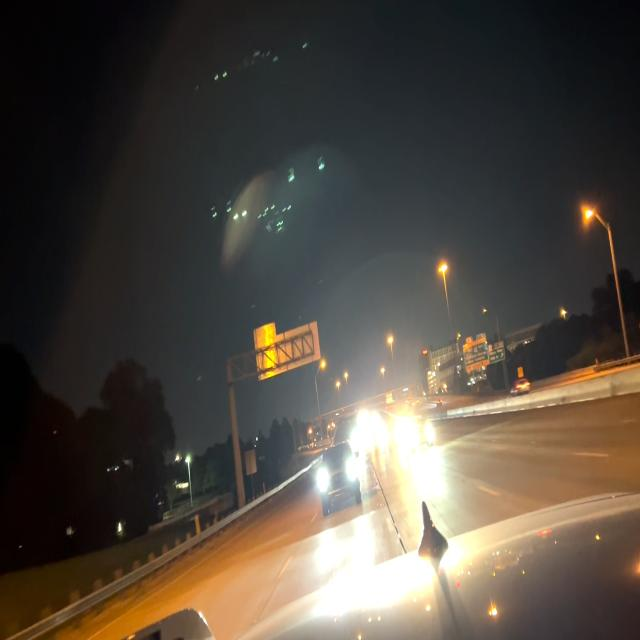back-of-sign: (253, 320, 321, 384)
